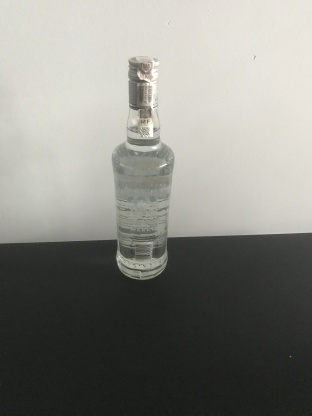nakretka: (126, 53, 161, 110)
